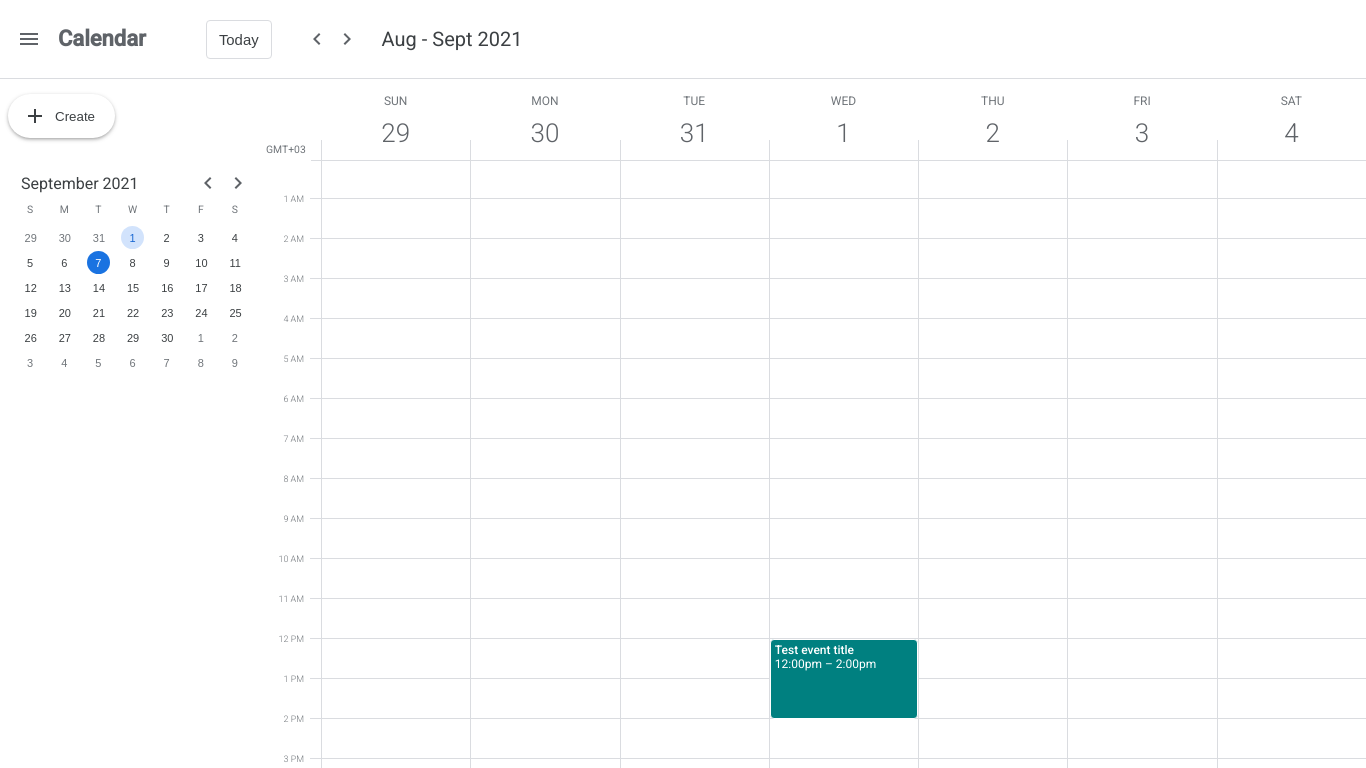
Test: App › Event preview modal › should display event info when clicked on event
The image size is (1366, 768).
Click the element with test id "event-123": (844, 679) [770, 639, 918, 719]
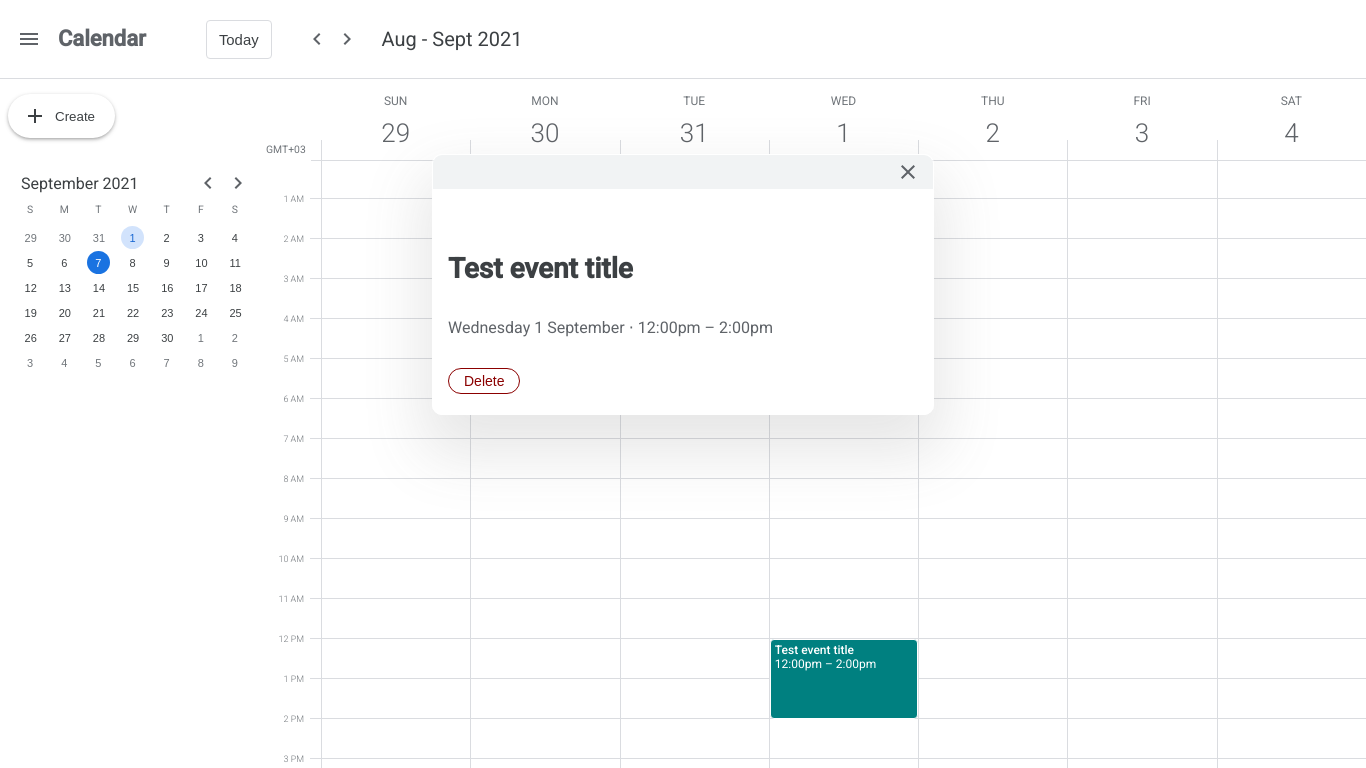
Expected: the element with test id "event-preview-modal" shows "Test event title", [448, 252, 633, 285]
